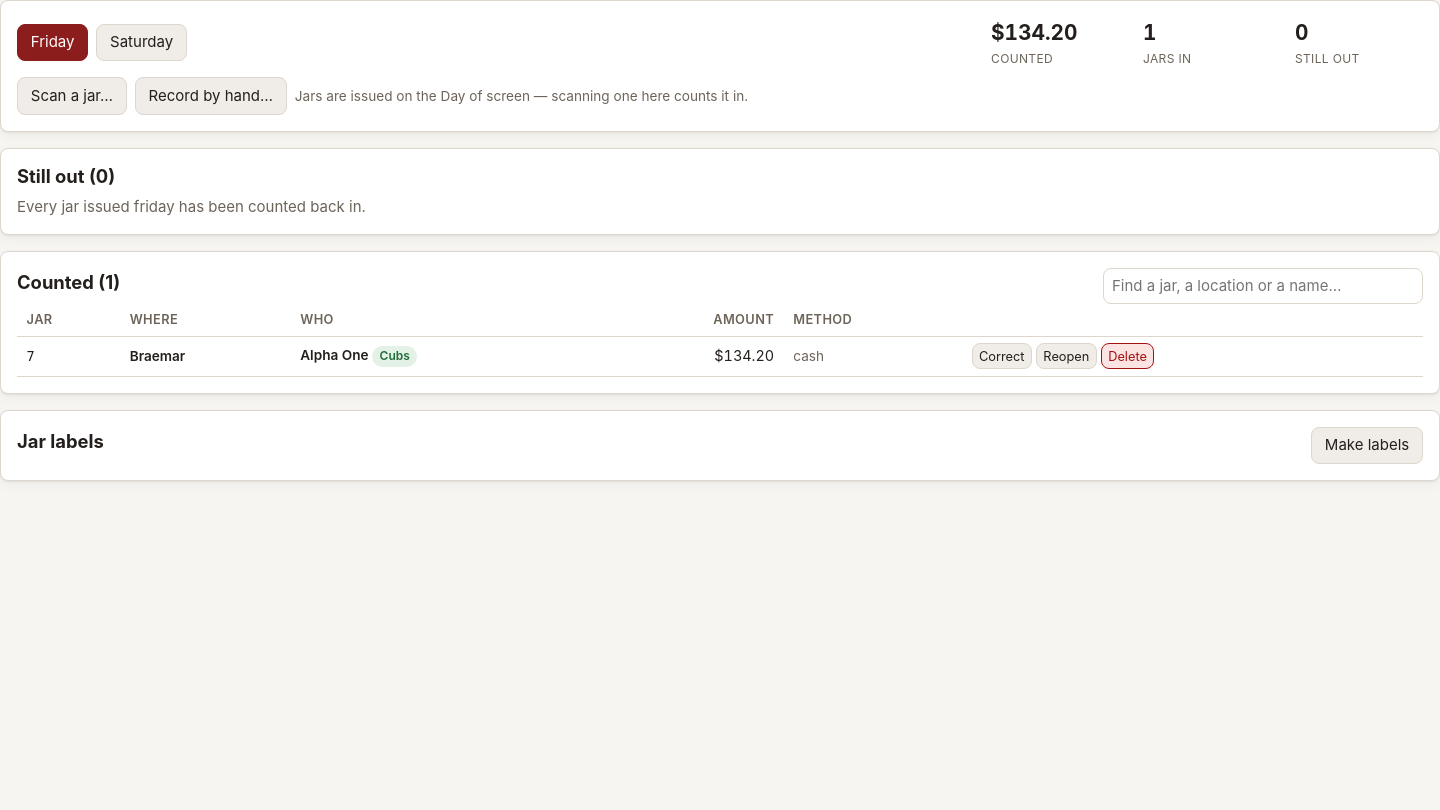
deleting a counted jar › does nothing when cancelled
The image size is (1440, 810).
Click the button "Delete" at (1128, 356), box [1101, 343, 1154, 369]
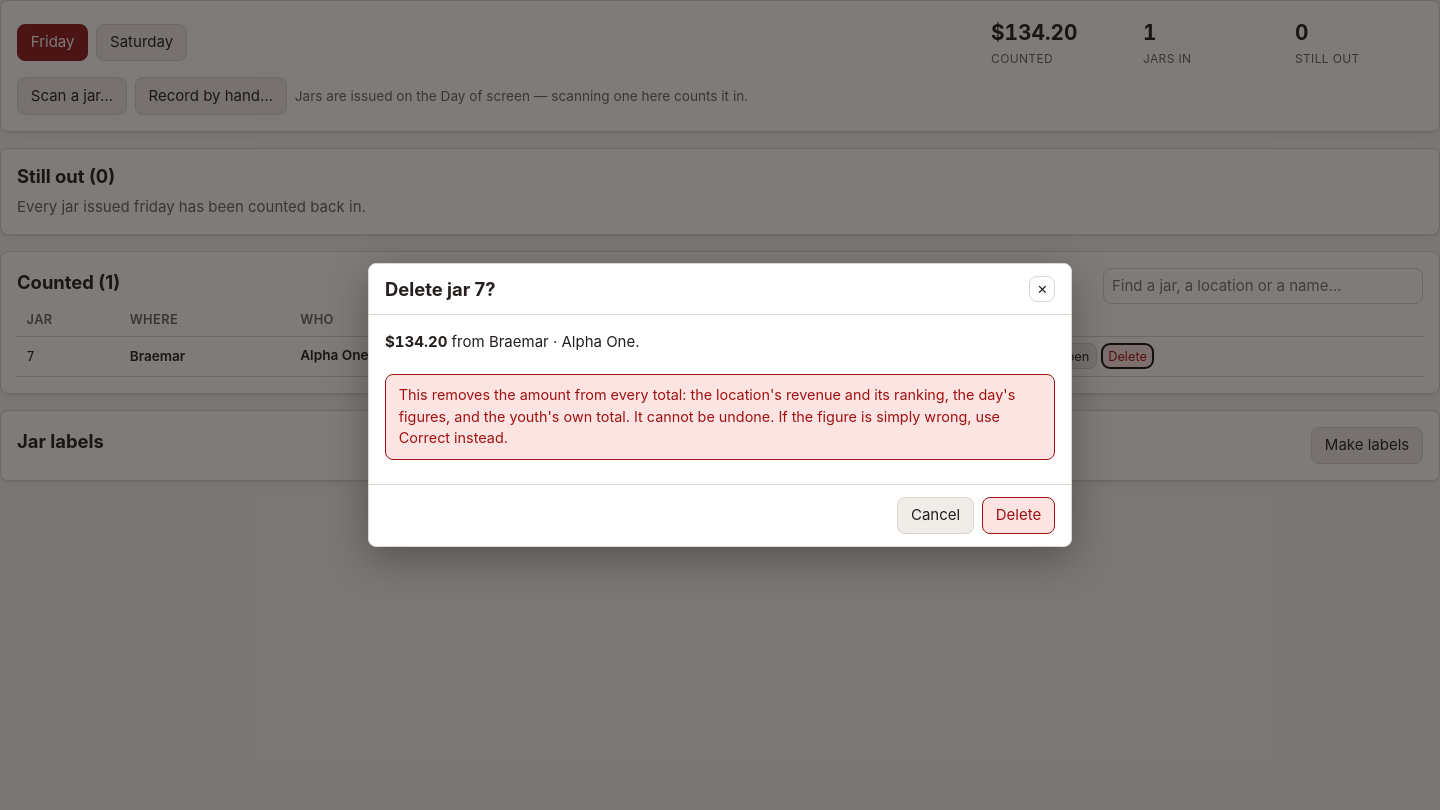
Click the button "Cancel" at (936, 515), box [897, 497, 974, 534]
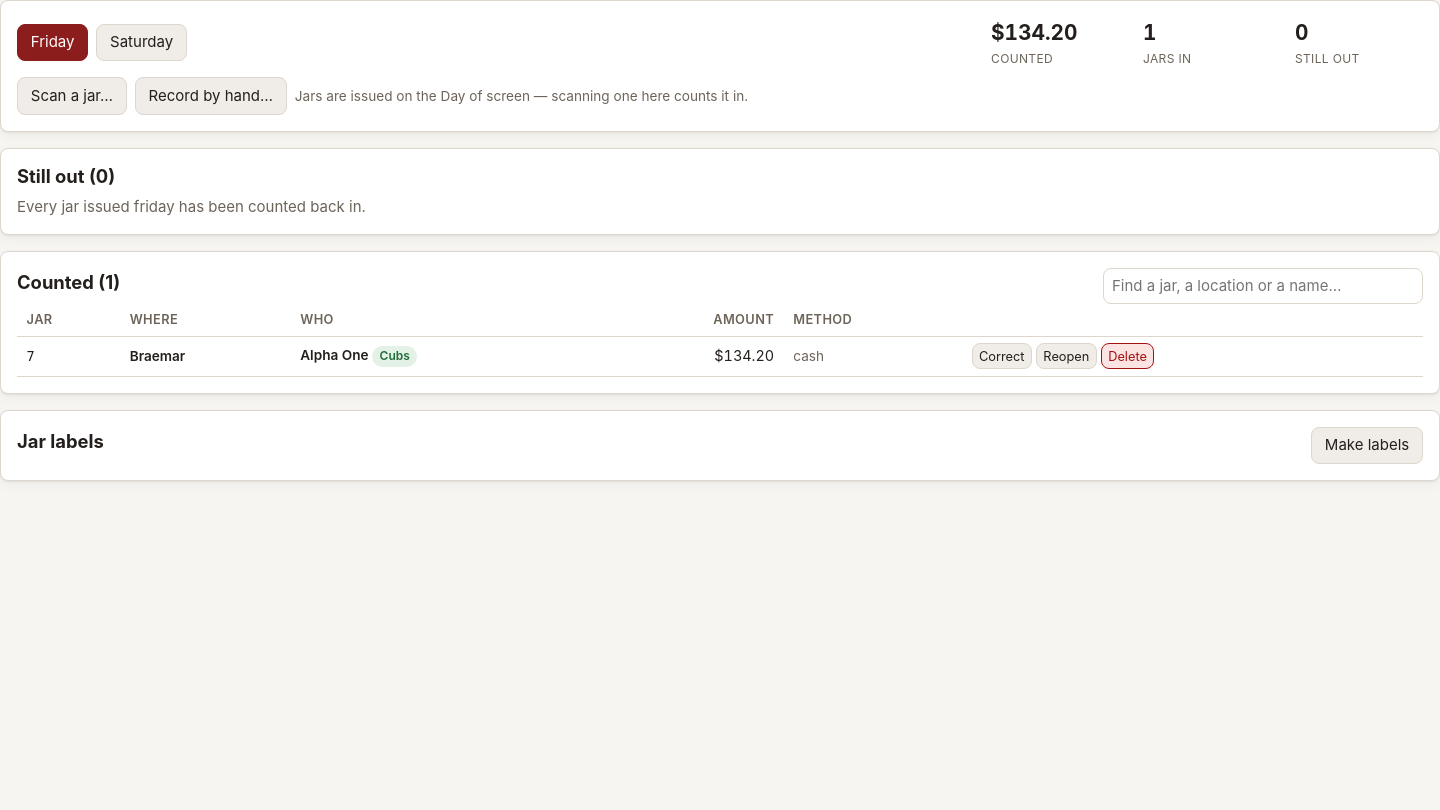
Now the heading "Delete jar 7?" is gone
